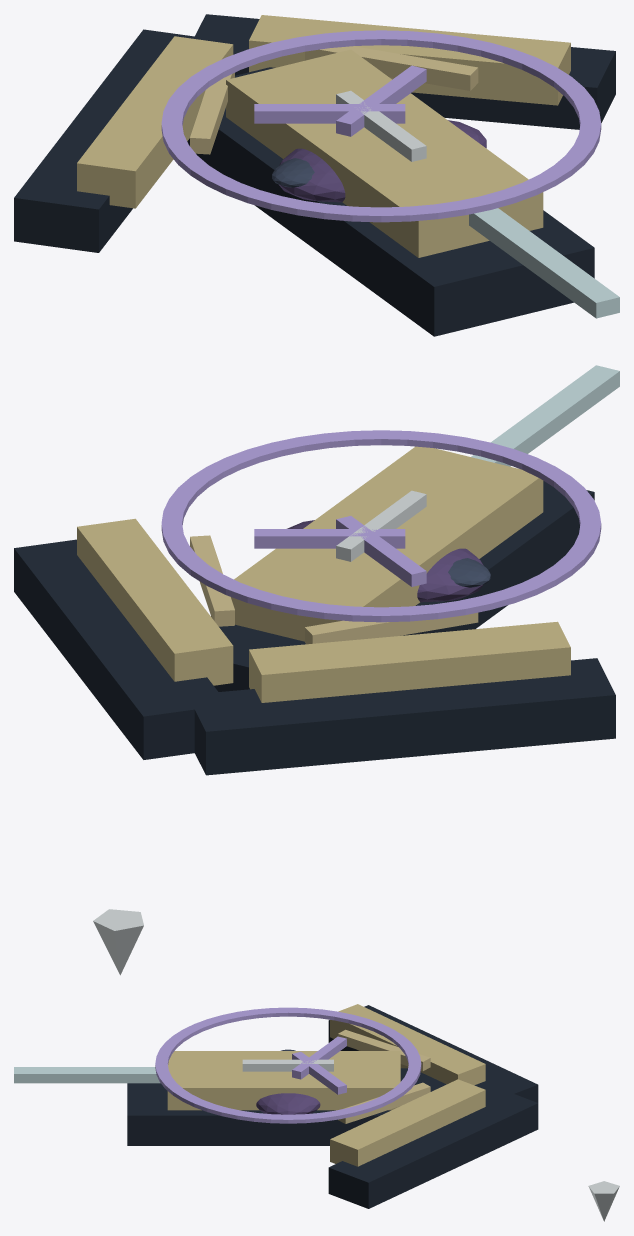
File: helias_null_spear.glb
The picture shows the model from 3 angles, top to bottom: view 1: azimuth 30°, elevation 25°; view 2: azimuth 150°, elevation 25°; view 3: azimuth 270°, elevation 25°; orthographic projection. The views are drawn at different scales.
Visible parts, largest first — view 1: center_hull, center_shadow, charge_ring, prong_shadow_1, prong_gold_1, prong_gold_-1, prong_shadow_-1, crystalline_spine, blade_rib_-1, lens_petal_2, recessed_body, lens_petal_1 (+3 smaller); view 2: prong_shadow_1, center_hull, prong_shadow_-1, prong_gold_1, charge_ring, prong_gold_-1, center_shadow, crystalline_spine, blade_rib_1, lens_petal_1, lens_petal_2, beam_tip (+4 smaller); view 3: center_hull, prong_shadow_-1, center_shadow, charge_ring, prong_gold_-1, prong_gold_1, crystalline_spine, prong_shadow_1, recessed_body, lens_petal_0, blade_rib_1, blade_rib_-1 (+3 smaller).
Part boxes in pixels (x1,y1,x2,y2): center_hull: (226,49,543,257); center_shadow: (187,67,594,336); charge_ring: (161,30,601,222); prong_shadow_1: (14,29,227,252); prong_gold_1: (77,36,233,208); prong_gold_-1: (249,15,570,105); prong_shadow_-1: (194,14,615,129); crystalline_spine: (469,208,619,318); blade_rib_-1: (305,46,478,90); lens_petal_2: (254,104,405,123); recessed_body: (279,120,486,202); lens_petal_1: (336,65,426,136); prong_shadow_1: (190,658,615,775); center_hull: (231,446,543,641); prong_shadow_-1: (14,539,227,759); prong_gold_1: (249,621,570,702); charge_ring: (161,430,601,622); prong_gold_-1: (77,518,233,685); center_shadow: (211,481,594,691); crystalline_spine: (471,365,619,466); blade_rib_1: (305,612,478,644); lens_petal_1: (254,529,405,548); lens_petal_2: (336,516,426,586); beam_tip: (93,909,143,975); center_hull: (167,1051,400,1110); prong_shadow_-1: (328,1088,538,1208); center_shadow: (127,1068,446,1145); charge_ring: (155,1007,421,1123); prong_gold_-1: (330,1079,485,1166); prong_gold_1: (330,1004,485,1085); crystalline_spine: (14,1067,160,1083); prong_shadow_1: (328,1005,538,1102); recessed_body: (256,1093,320,1114); lens_petal_0: (242,1059,333,1071); blade_rib_1: (338,1029,430,1071); blade_rib_-1: (338,1082,430,1123).
Size of the model in its own units: 2.02 by 0.85 by 2.92.
